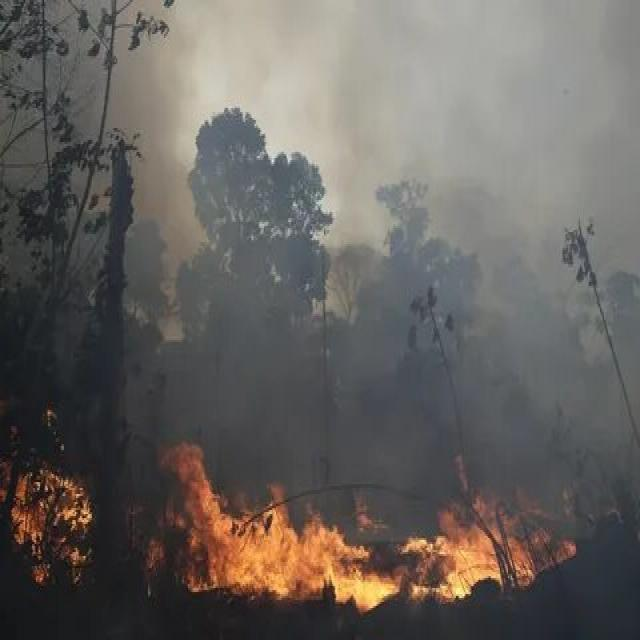Fire: (32, 441, 569, 640)
Smoke: (0, 0, 640, 475)
